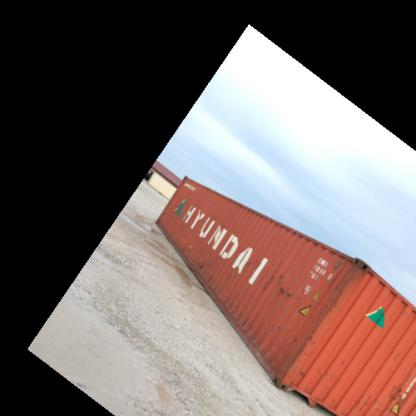Damage: (256, 261, 312, 309), (265, 317, 319, 351), (329, 254, 361, 304), (197, 258, 222, 286), (352, 390, 380, 412), (387, 382, 408, 411), (286, 365, 310, 388), (174, 233, 192, 256), (336, 355, 346, 369)
